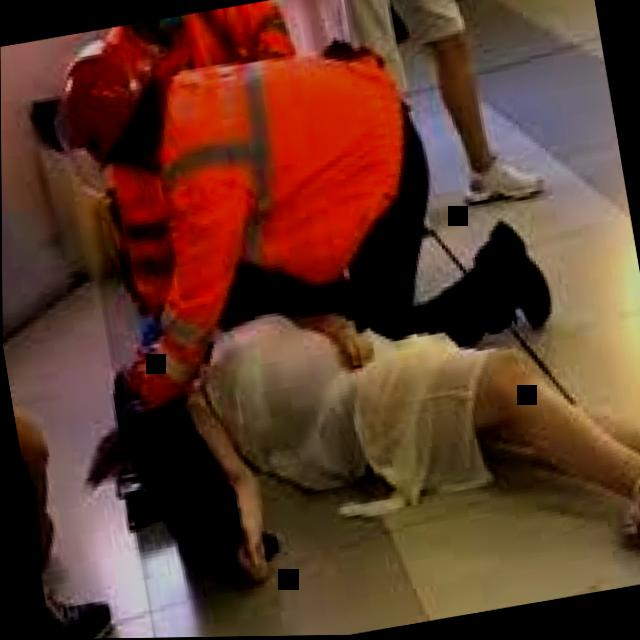Fall-Detected: (108, 201, 640, 639)
